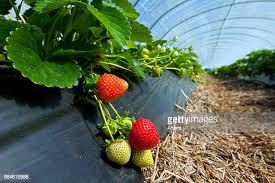ripe: (131, 116, 162, 148), (96, 72, 129, 102)
unripe: (104, 135, 132, 166), (132, 146, 155, 169), (100, 119, 117, 136), (117, 115, 133, 133)
